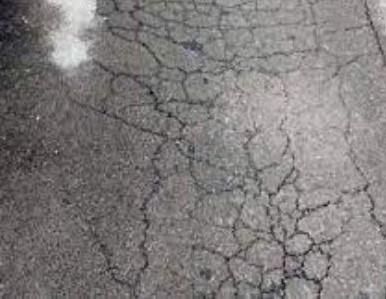alligator-crack: (4, 125, 386, 299), (88, 0, 380, 123)
